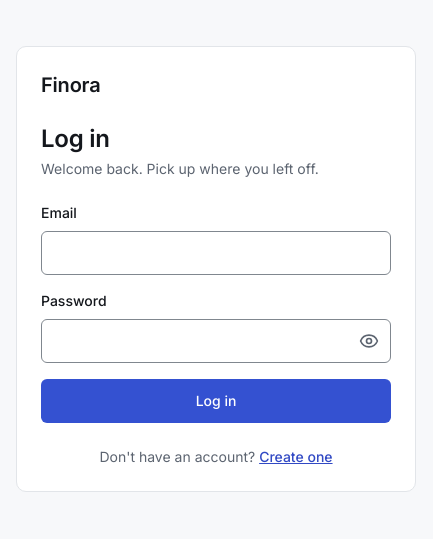
login page › shows a friendly message for wrong details, never Supabase’s text
Expected: the heading "Log in" is shown, [41, 124, 110, 153]
In the field labelled "Email": (216, 253) [41, 231, 391, 275], type "me@example.com"
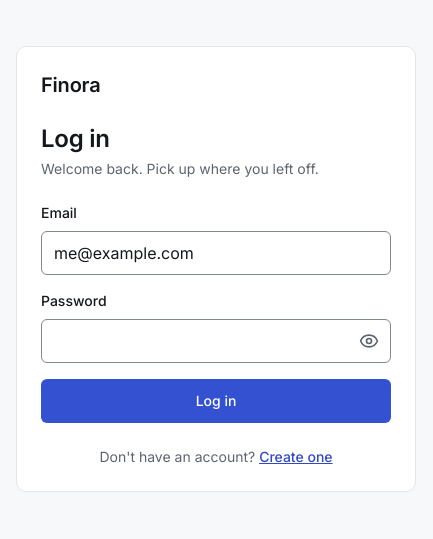
In the password field labelled "Password": (216, 341) [41, 319, 391, 363], type "wrong-password"
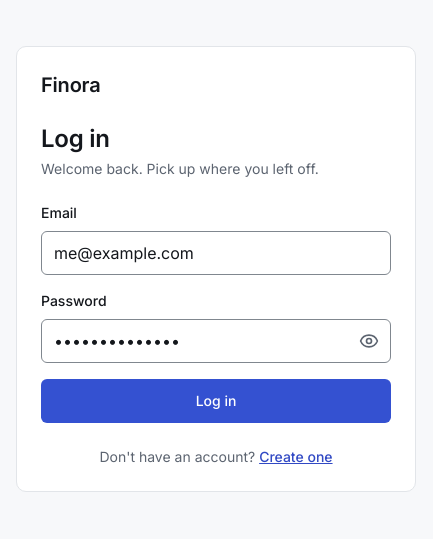
Click the button "Log in": (216, 401) [41, 379, 391, 423]
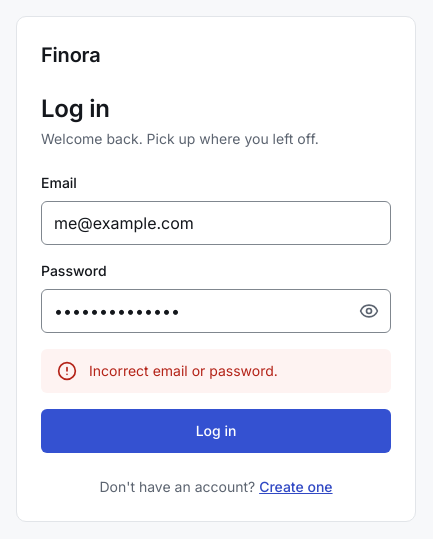
Expected: the message does not show "Invalid login credentials", [41, 349, 391, 393]
Result: the message reads "Incorrect email or password." at [89, 362, 278, 379]
